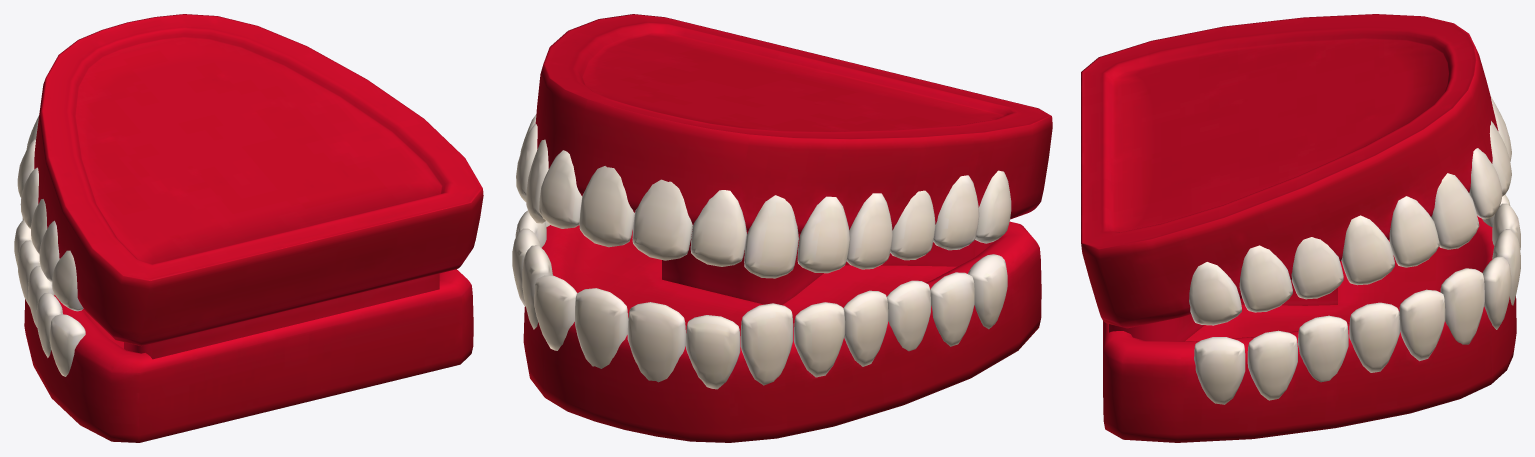
The model's file is teeth-transformed.glb.
The picture shows the model from 3 angles, left to right: view 1: azimuth 30°, elevation 25°; view 2: azimuth 150°, elevation 25°; view 3: azimuth 270°, elevation 25°; orthographic projection. The views are drawn at different scales.
Visible parts, largest first — view 1: Box002_01 - Default_0, Box002_02 - Default_0.034, Box002_02 - Default_0.007, Box002_02 - Default_0.033, Box002_02 - Default_0.006, Box002_02 - Default_0.031, Box002_02 - Default_0.032, Box002_02 - Default_0.004, Box002_02 - Default_0.005, Box002_02 - Default_0.003; view 2: Box002_01 - Default_0, Box002_02 - Default_0, Box002_02 - Default_0.027, Box002_02 - Default_0.002, Box002_02 - Default_0.029, Box002_02 - Default_0.009, Box002_02 - Default_0.001, Box002_02 - Default_0.018, Box002_02 - Default_0.028, Box002_02 - Default_0.003, Box002_02 - Default_0.030, Box002_02 - Default_0.004 (+14 smaller); view 3: Box002_01 - Default_0, Box002_02 - Default_0.025, Box002_02 - Default_0.022, Box002_02 - Default_0.024, Box002_02 - Default_0.013, Box002_02 - Default_0.015, Box002_02 - Default_0.012, Box002_02 - Default_0.023, Box002_02 - Default_0.016, Box002_02 - Default_0.011, Box002_02 - Default_0.020, Box002_02 - Default_0.021 (+6 smaller).
Boxes of the visible parts, x1,y1,x2,y2 form: Box002_01 - Default_0: [24, 14, 483, 442]; Box002_02 - Default_0.034: [49, 314, 85, 376]; Box002_02 - Default_0.007: [52, 250, 83, 311]; Box002_02 - Default_0.033: [36, 292, 62, 357]; Box002_02 - Default_0.006: [39, 220, 59, 282]; Box002_02 - Default_0.031: [18, 240, 40, 306]; Box002_02 - Default_0.032: [28, 266, 54, 327]; Box002_02 - Default_0.004: [20, 167, 38, 228]; Box002_02 - Default_0.005: [31, 199, 47, 254]; Box002_02 - Default_0.003: [17, 139, 35, 197]; Box002_01 - Default_0: [523, 14, 1052, 442]; Box002_02 - Default_0: [632, 179, 692, 260]; Box002_02 - Default_0.027: [627, 302, 685, 382]; Box002_02 - Default_0.002: [744, 195, 798, 278]; Box002_02 - Default_0.029: [740, 303, 793, 385]; Box002_02 - Default_0.009: [579, 166, 634, 247]; Box002_02 - Default_0.001: [690, 190, 746, 266]; Box002_02 - Default_0.018: [575, 288, 628, 368]; Box002_02 - Default_0.028: [686, 315, 740, 389]; Box002_02 - Default_0.003: [797, 196, 850, 273]; Box002_02 - Default_0.030: [794, 302, 845, 377]; Box002_02 - Default_0.004: [846, 193, 892, 269]; Box002_01 - Default_0: [1081, 14, 1516, 442]; Box002_02 - Default_0.025: [1194, 337, 1245, 404]; Box002_02 - Default_0.022: [1349, 302, 1399, 372]; Box002_02 - Default_0.024: [1247, 330, 1297, 400]; Box002_02 - Default_0.013: [1341, 215, 1394, 285]; Box002_02 - Default_0.015: [1239, 245, 1292, 312]; Box002_02 - Default_0.012: [1389, 196, 1439, 267]; Box002_02 - Default_0.023: [1298, 315, 1348, 382]; Box002_02 - Default_0.016: [1189, 262, 1241, 325]; Box002_02 - Default_0.011: [1431, 173, 1479, 249]; Box002_02 - Default_0.020: [1440, 268, 1484, 344]; Box002_02 - Default_0.021: [1399, 289, 1445, 361].
Size of the model in its own units: 1.37 by 0.8783 by 1.24.
Materials: 2 (2 with a texture image).
